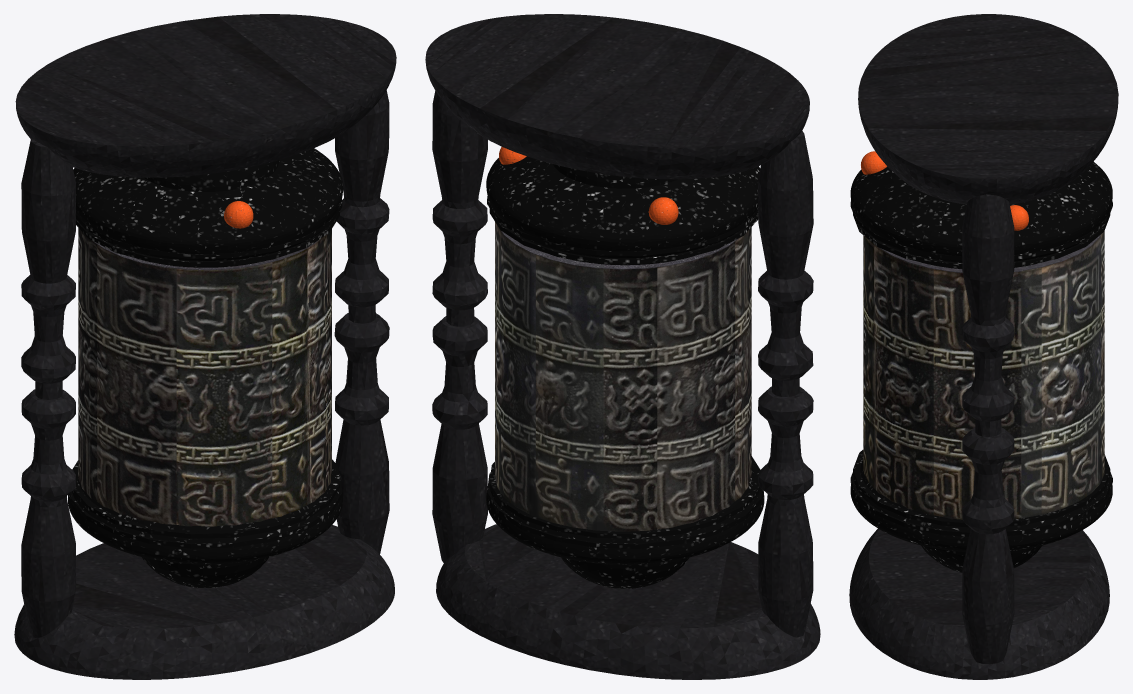
File: manigattaianime.fbx
3 renders of one model, left to right at view 1: azimuth 30°, elevation 25°; view 2: azimuth 150°, elevation 25°; view 3: azimuth 270°, elevation 25°, orthographic. The views are drawn at different scales.
Parts seen in each view (by area): view 1: node_shape0, Cylinder, node_shape0.001, node_shape0.002; view 2: node_shape0, Cylinder, node_shape0.001, node_shape0.002; view 3: node_shape0, Cylinder, node_shape0.001, node_shape0.002.
Part boxes in pixels (left/top/right/bottom): node_shape0: left=14, top=14, right=396, bottom=679; Cylinder: left=78, top=228, right=331, bottom=526; node_shape0.001: left=68, top=148, right=343, bottom=587; node_shape0.002: left=224, top=201, right=253, bottom=228; node_shape0: left=425, top=14, right=820, bottom=679; Cylinder: left=495, top=222, right=751, bottom=531; node_shape0.001: left=486, top=156, right=764, bottom=588; node_shape0.002: left=499, top=147, right=678, bottom=224; node_shape0: left=849, top=14, right=1118, bottom=679; Cylinder: left=863, top=231, right=1104, bottom=519; node_shape0.001: left=850, top=161, right=1112, bottom=572; node_shape0.002: left=861, top=151, right=1028, bottom=230.
Size of the model in its own units: 794 by 1098 by 532.
4 materials, 4 textured.
